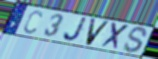3: (43, 14, 64, 38)
C: (22, 10, 43, 35)
J: (62, 17, 89, 43)
S: (123, 26, 149, 54)
V: (84, 17, 112, 47)
X: (99, 21, 131, 51)
